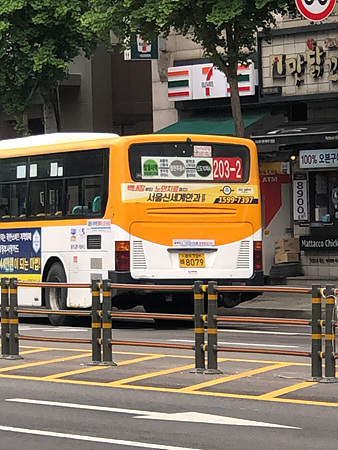bnum: (211, 160, 241, 177)
